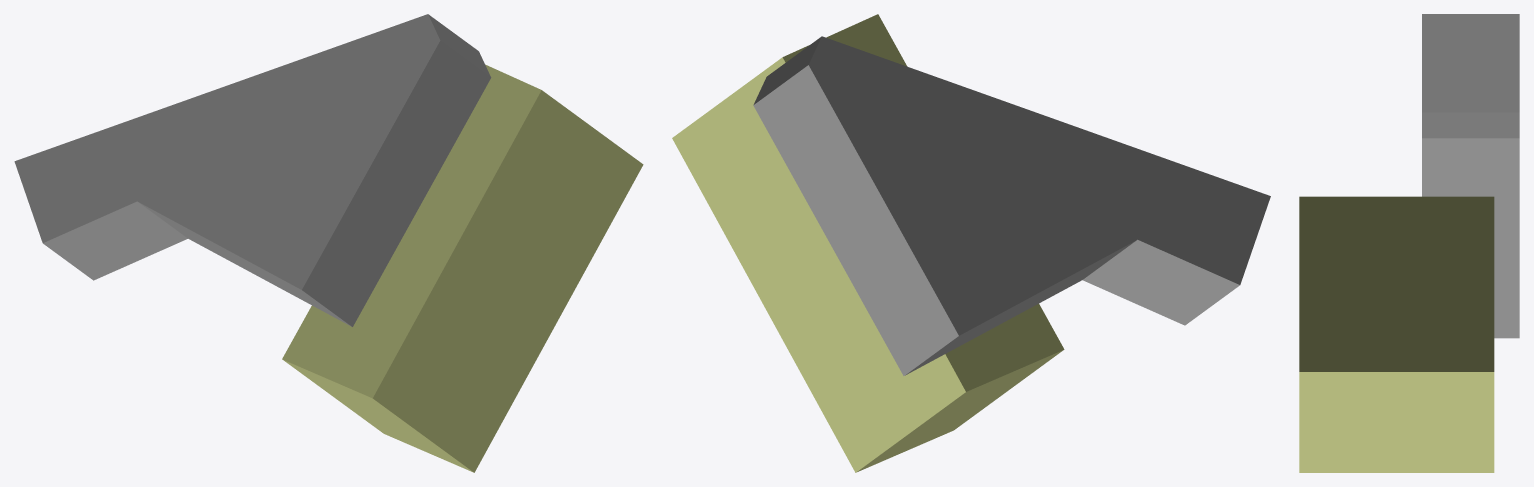
3 views of the same model, side by side, from view 1: azimuth 30°, elevation 25°; view 2: azimuth 150°, elevation 25°; view 3: azimuth 270°, elevation 25° (orthographic). The views are drawn at different scales.
Visible parts, largest first — view 1: 0_1_2_0_1_3_0_0_3_1; view 2: 0_1_2_0_1_3_0_0_3_1; view 3: 0_1_2_0_1_3_0_0_3_1.
Part boxes in pixels (x1,y1,x2,y2): 0_1_2_0_1_3_0_0_3_1: [14, 14, 643, 472]; 0_1_2_0_1_3_0_0_3_1: [672, 14, 1270, 472]; 0_1_2_0_1_3_0_0_3_1: [1299, 14, 1519, 472].
Bounding box in the file's own units: 17.49 × 11.64 × 6.78.
